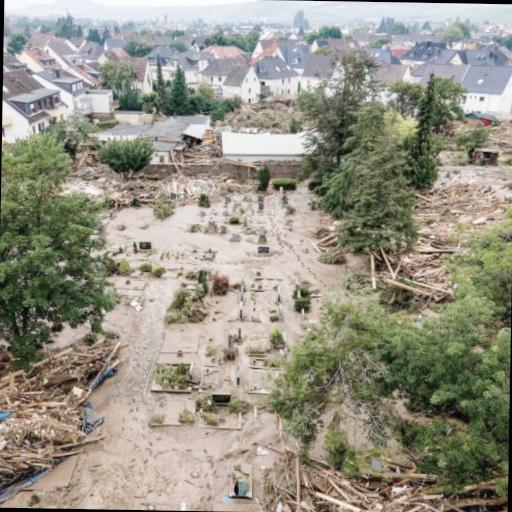house: (448, 62, 512, 118), (2, 68, 58, 122), (248, 60, 300, 106), (222, 66, 258, 101), (80, 86, 118, 118), (301, 52, 340, 83), (198, 58, 229, 86), (428, 50, 462, 66)
